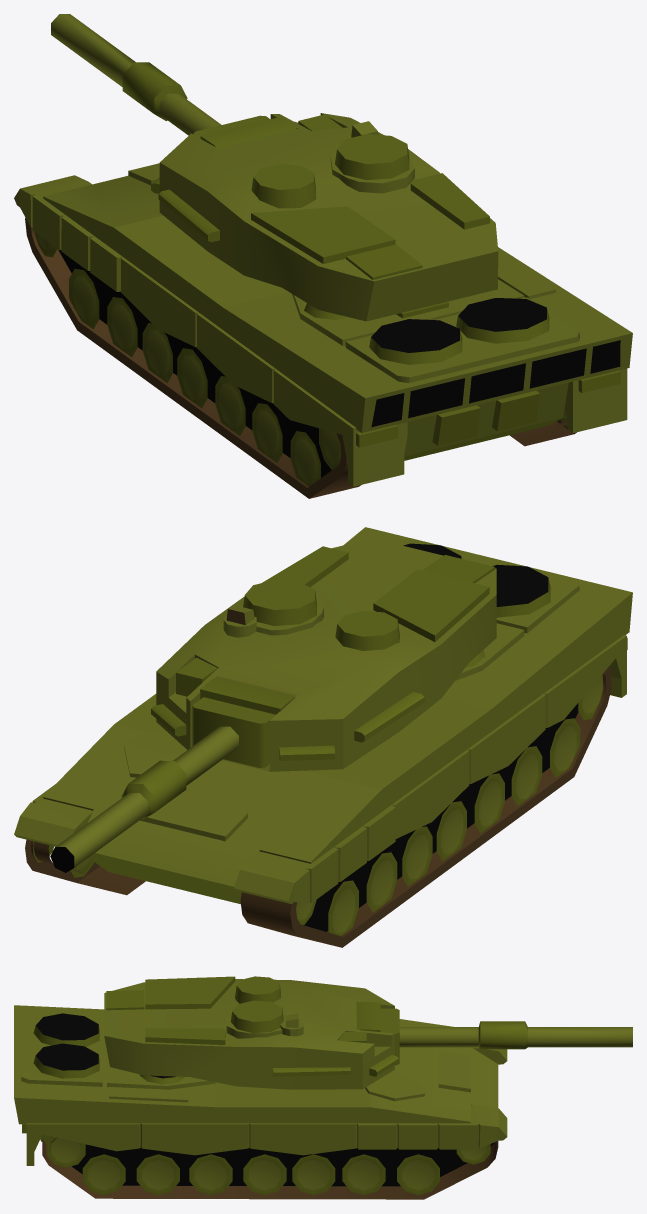
File: leopard2.glb
3 views of the same model, one above another, from view 1: azimuth 30°, elevation 25°; view 2: azimuth 150°, elevation 25°; view 3: azimuth 270°, elevation 25° (orthographic). The views are drawn at different scales.
Visible parts, largest first — view 1: hull.002, leopard2a4_turret.001, barrel; view 2: hull.002, leopard2a4_turret.001, barrel; view 3: hull.002, leopard2a4_turret.001, barrel.
Boxes of the visible parts, x1,y1,x2,y2 form: hull.002: (14,121,632,498); leopard2a4_turret.001: (151,113,498,321); barrel: (51,14,296,148); hull.002: (14,527,632,947); leopard2a4_turret.001: (151,538,496,771); barrel: (50,678,295,872); hull.002: (14,1005,507,1199); leopard2a4_turret.001: (104,976,398,1089); barrel: (356,1001,632,1065).
Size of the model in its own units: 0.369 by 0.2838 by 1.
